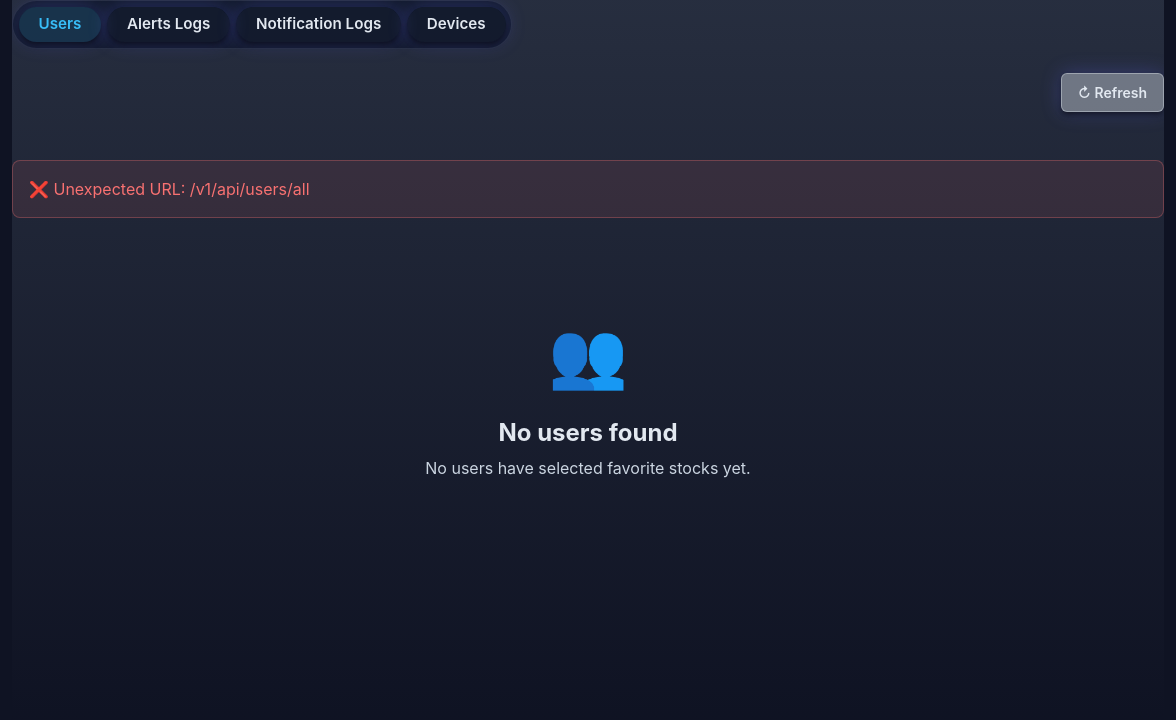
Test: MonitoringSection (Legacy MonitoringPage Tests) › should show empty state when no devices are registered
Click on Alerts Logs tab first (MonitoringSection defaults to "users" tab)
Click the button "Alerts Logs": {"x": 169, "y": 24} top-left (107, 7), bottom-right (230, 42)
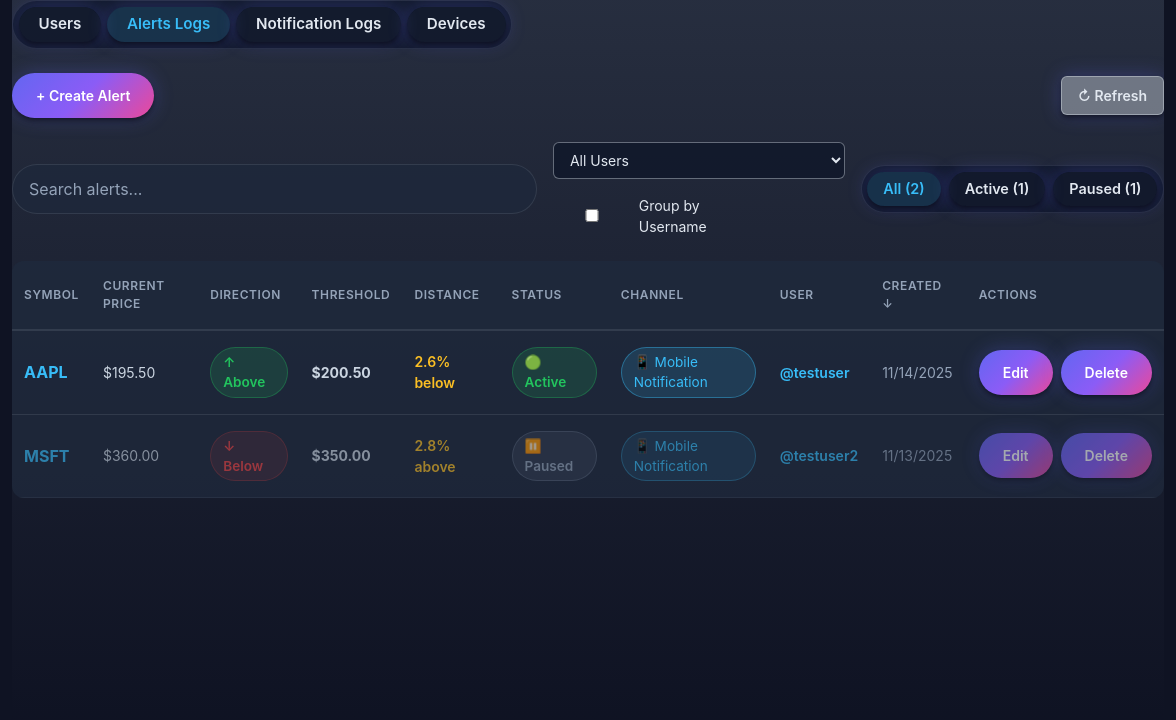
Result: the text "AAPL" is shown at top-left (24, 362), bottom-right (68, 382)
Click on Devices tab
Click the button "Devices": {"x": 456, "y": 24} top-left (407, 7), bottom-right (506, 42)
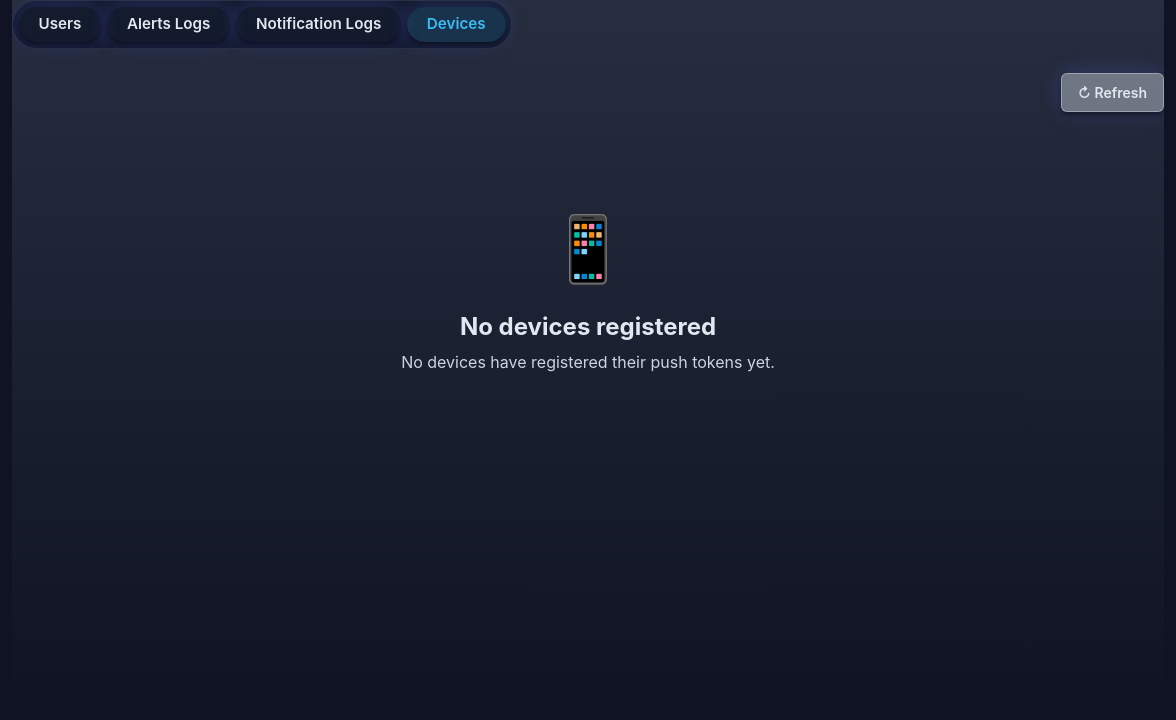
Result: the heading "No devices registered" is shown at top-left (460, 312), bottom-right (716, 341)
